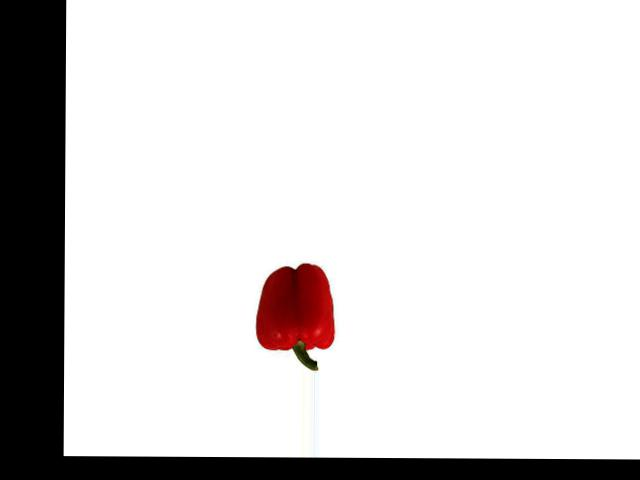bell_pepper: (244, 262, 338, 369)
